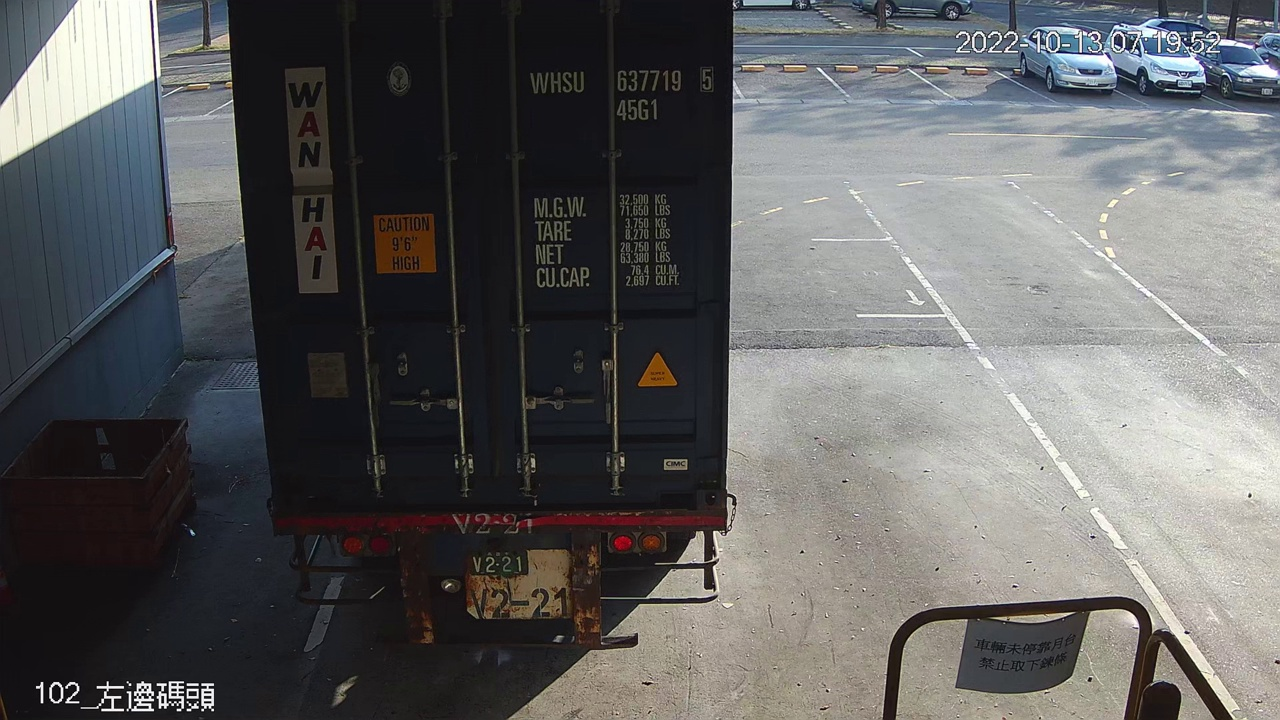container: (522, 61, 723, 130)
